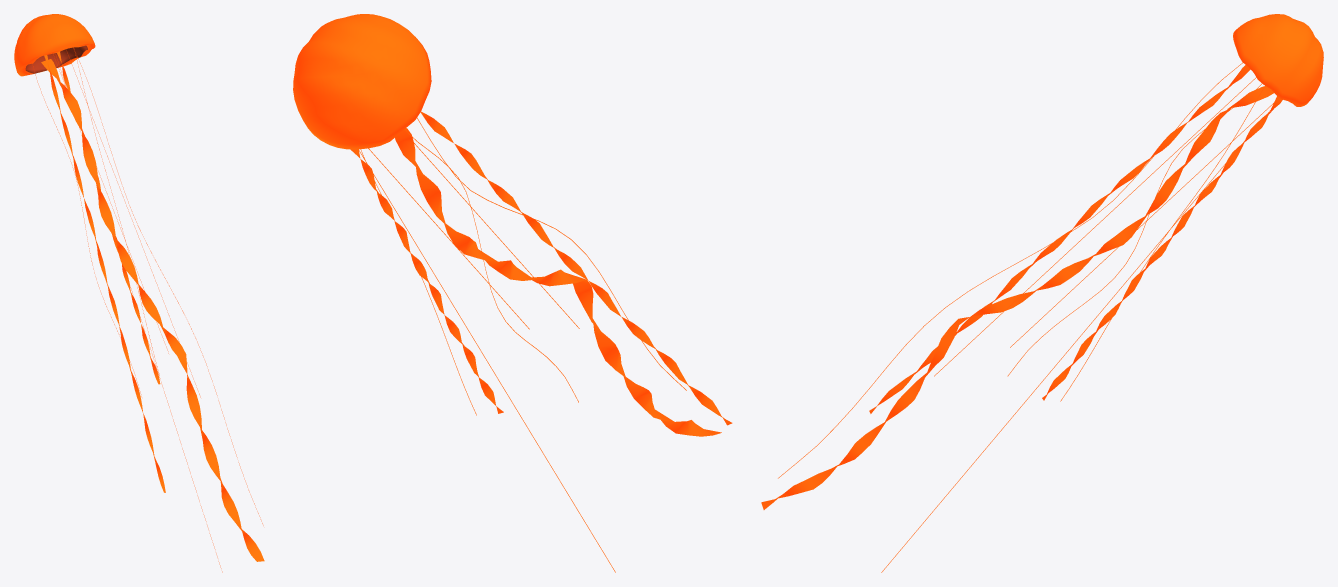
The model's file is float4.gltf.
3 renders of one model, left to right at view 1: azimuth 30°, elevation 25°; view 2: azimuth 150°, elevation 25°; view 3: azimuth 270°, elevation 25°, orthographic. The views are drawn at different scales.
Parts seen in each view (by area): view 1: big tentacle, JellyBody, big tentacle.003, big tentacle.001, ogCurveBoyo.000; view 2: JellyBody, big tentacle, big tentacle.003, big tentacle.001, strand; view 3: JellyBody, big tentacle, big tentacle.003, big tentacle.001.
Part boxes in pixels (box(x1,y1,x2,y2)): big tentacle: box(41, 59, 264, 561); JellyBody: box(14, 14, 95, 76); big tentacle.003: box(44, 55, 165, 492); big tentacle.001: box(57, 52, 160, 384); ogCurveBoyo.000: box(73, 48, 263, 525); JellyBody: box(293, 14, 431, 149); big tentacle: box(395, 128, 721, 436); big tentacle.003: box(420, 111, 732, 425); big tentacle.001: box(351, 149, 503, 413); strand: box(358, 149, 615, 572); JellyBody: box(1233, 14, 1323, 106); big tentacle: box(761, 86, 1273, 509); big tentacle.003: box(869, 65, 1250, 413); big tentacle.001: box(1042, 96, 1282, 400).
Bounding box in the file's own units: 2.5 × 11.75 × 10.93.
